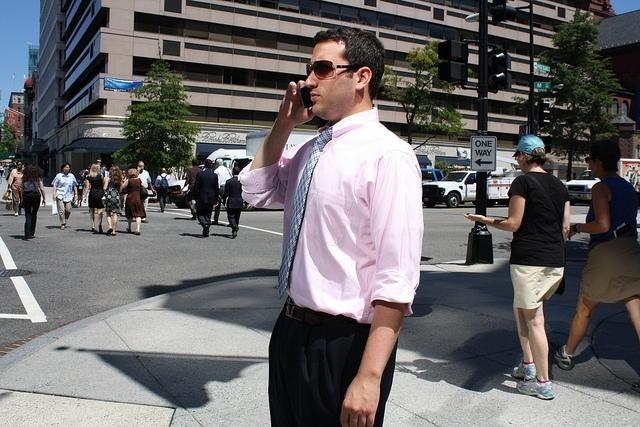car: (168, 164, 205, 208), (420, 167, 444, 181)
truck: (564, 157, 640, 207), (422, 170, 516, 208), (245, 130, 317, 152), (207, 148, 258, 178)
